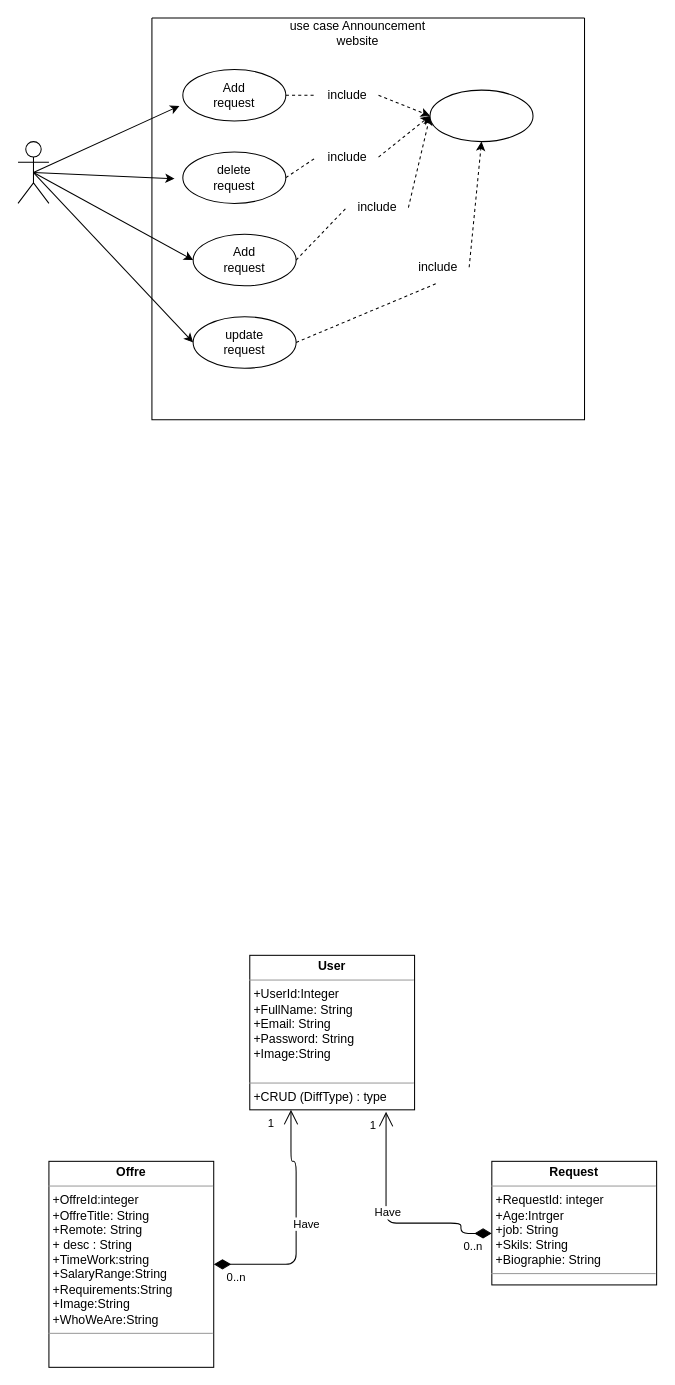
The diagram is 675 pixels wide and 1385 high, and some of its shapes have lost their labels. Here are the shapes that lost their labels. From the top down, the centre of each, then its label:
At pixel 481 115: "loginUser".
At pixel 33 172: "User".
